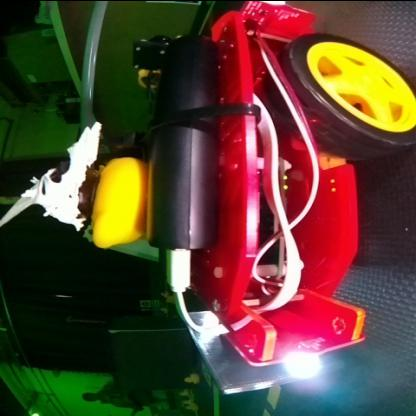Duckie: (20, 121, 146, 246), (182, 371, 198, 383)
Duckiebot: (158, 0, 414, 392)
